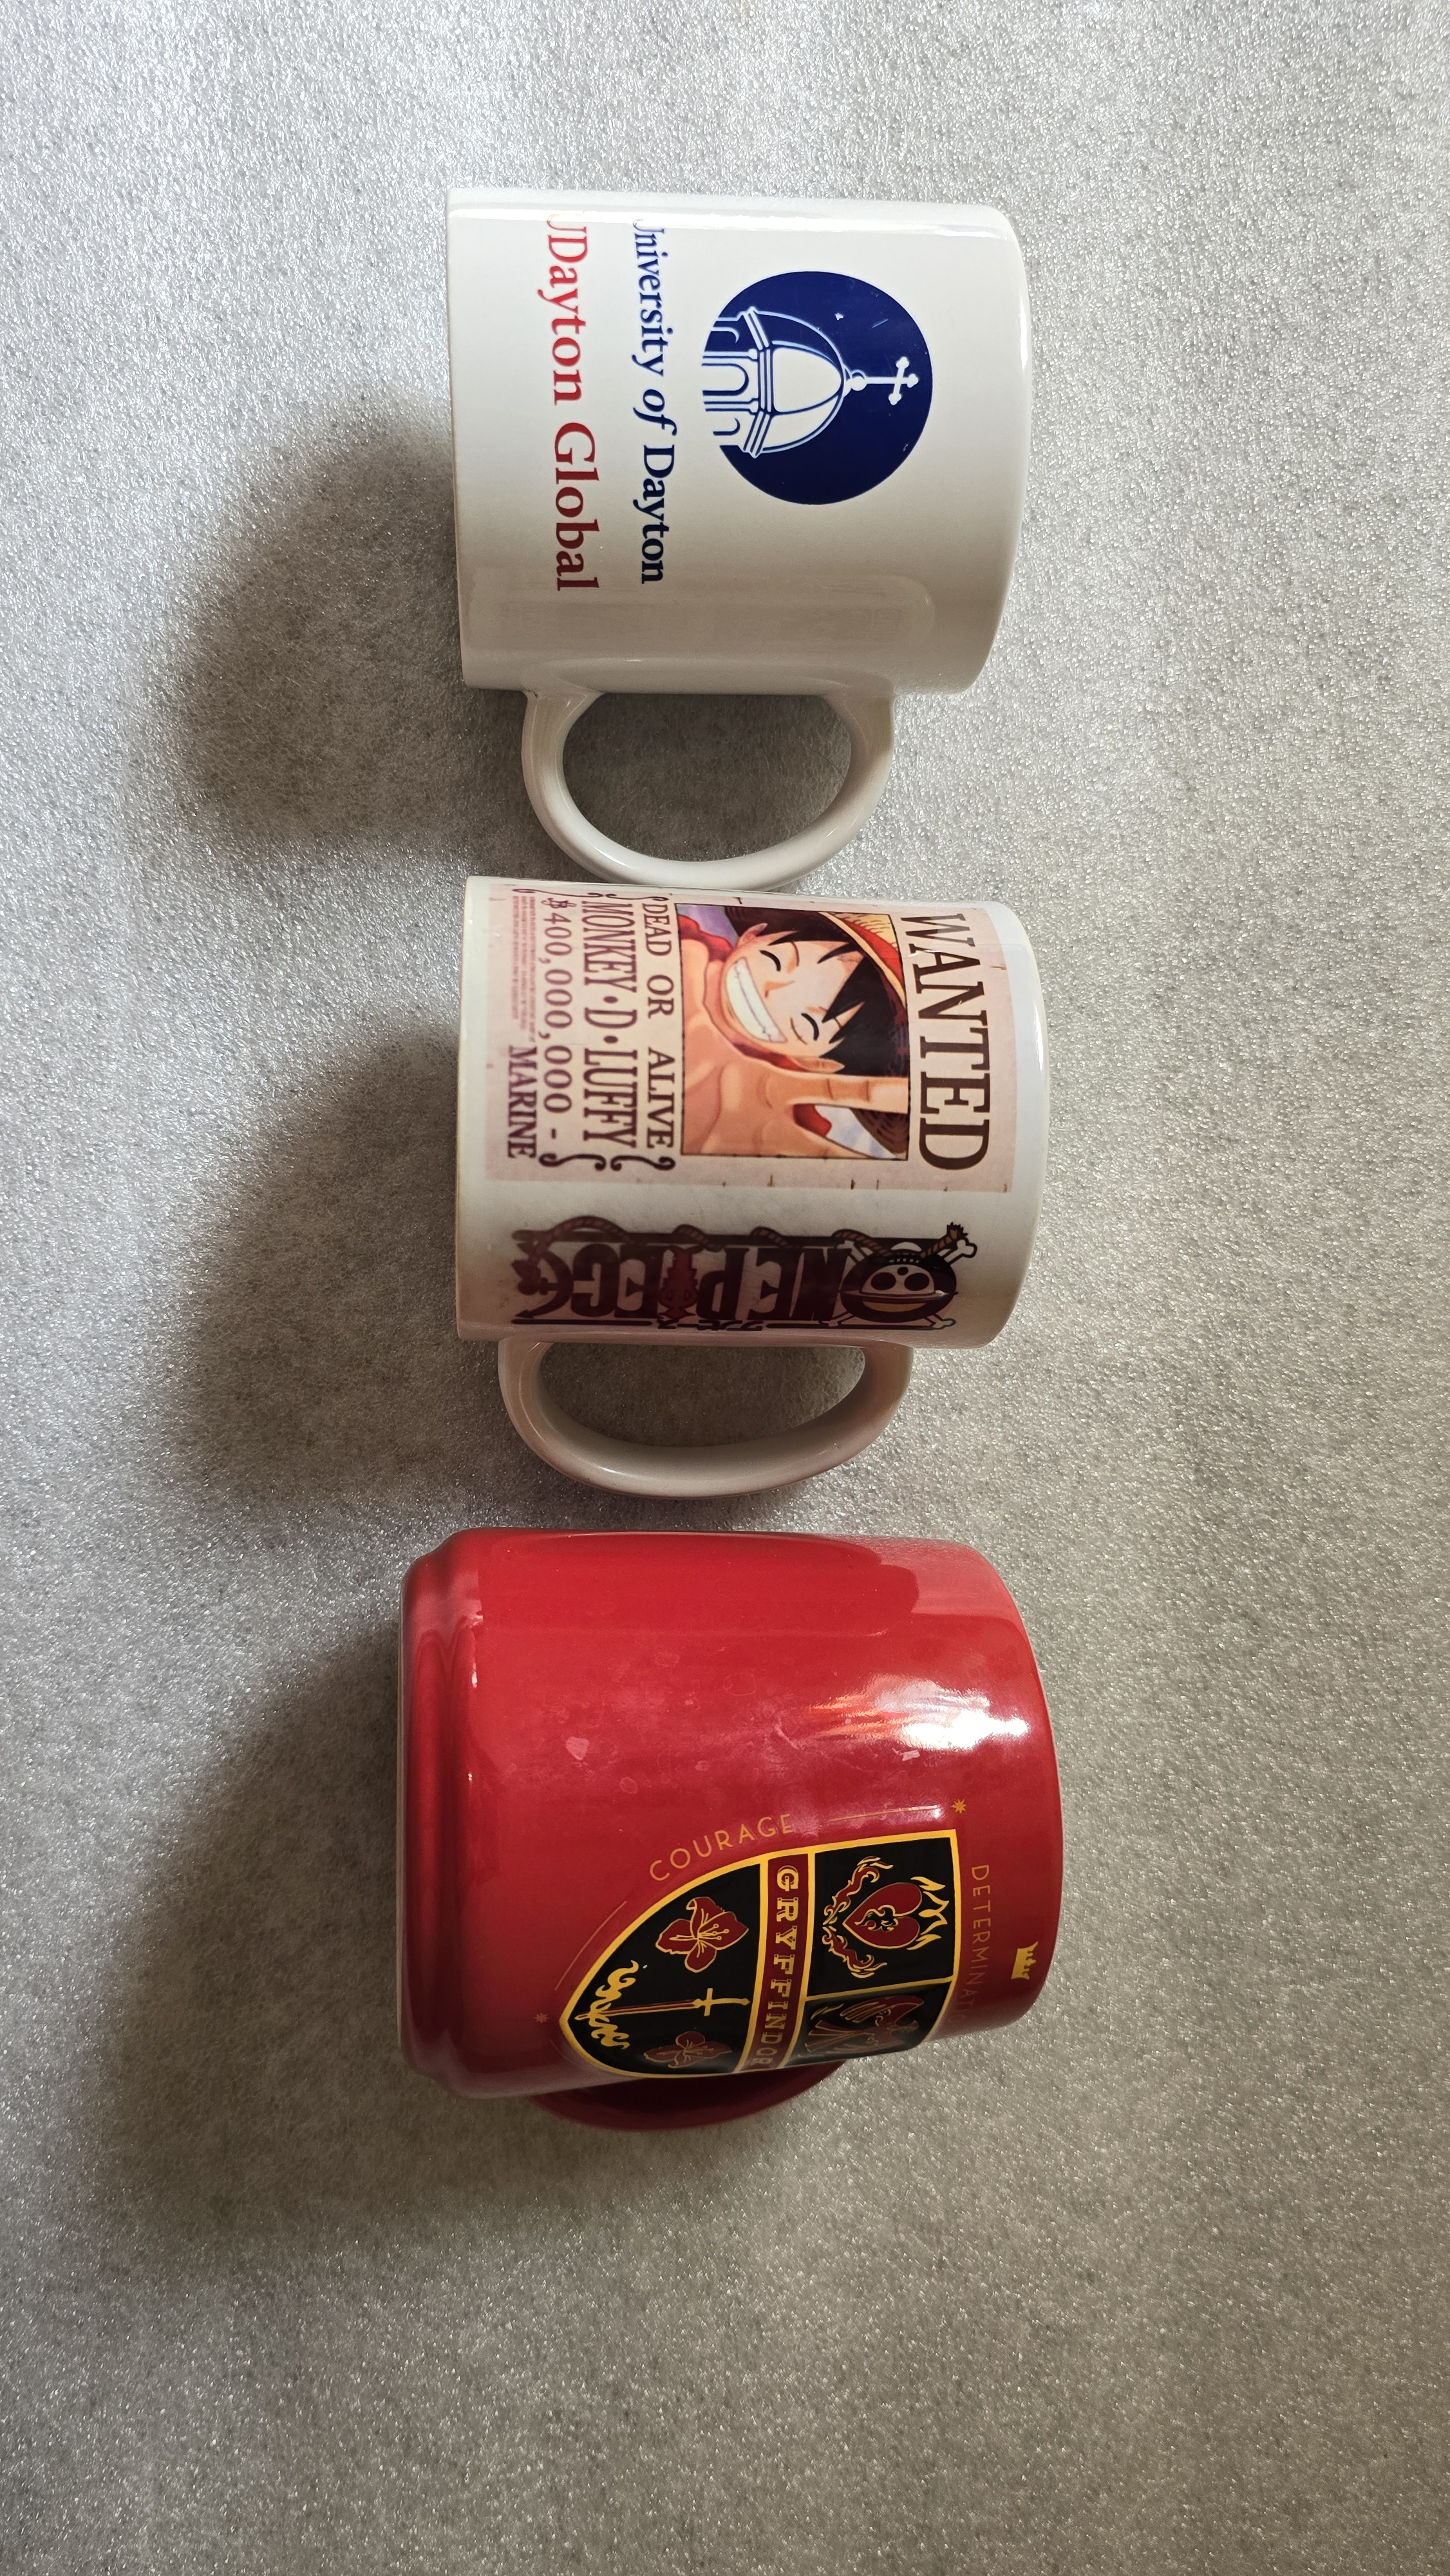mug: (340, 849, 1204, 1500), (398, 136, 1080, 915), (380, 1481, 1118, 2176)
